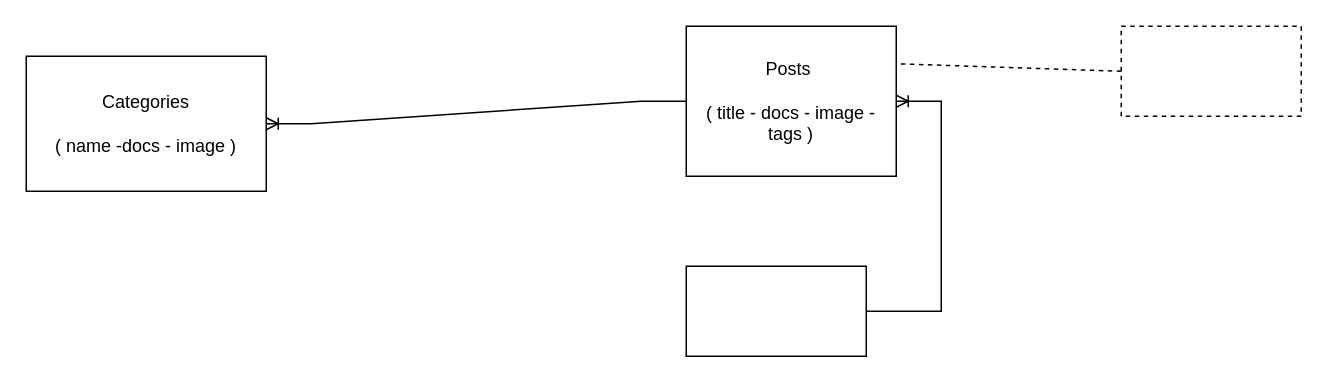
This 1328x383 diagram has some shape labels left out. Each missing label, with the box of its shape:
post translations ( id - post-_id - title - content - locate ): (1120, 25, 1301, 116)
tags (id - tagName ): (685, 265, 866, 356)
